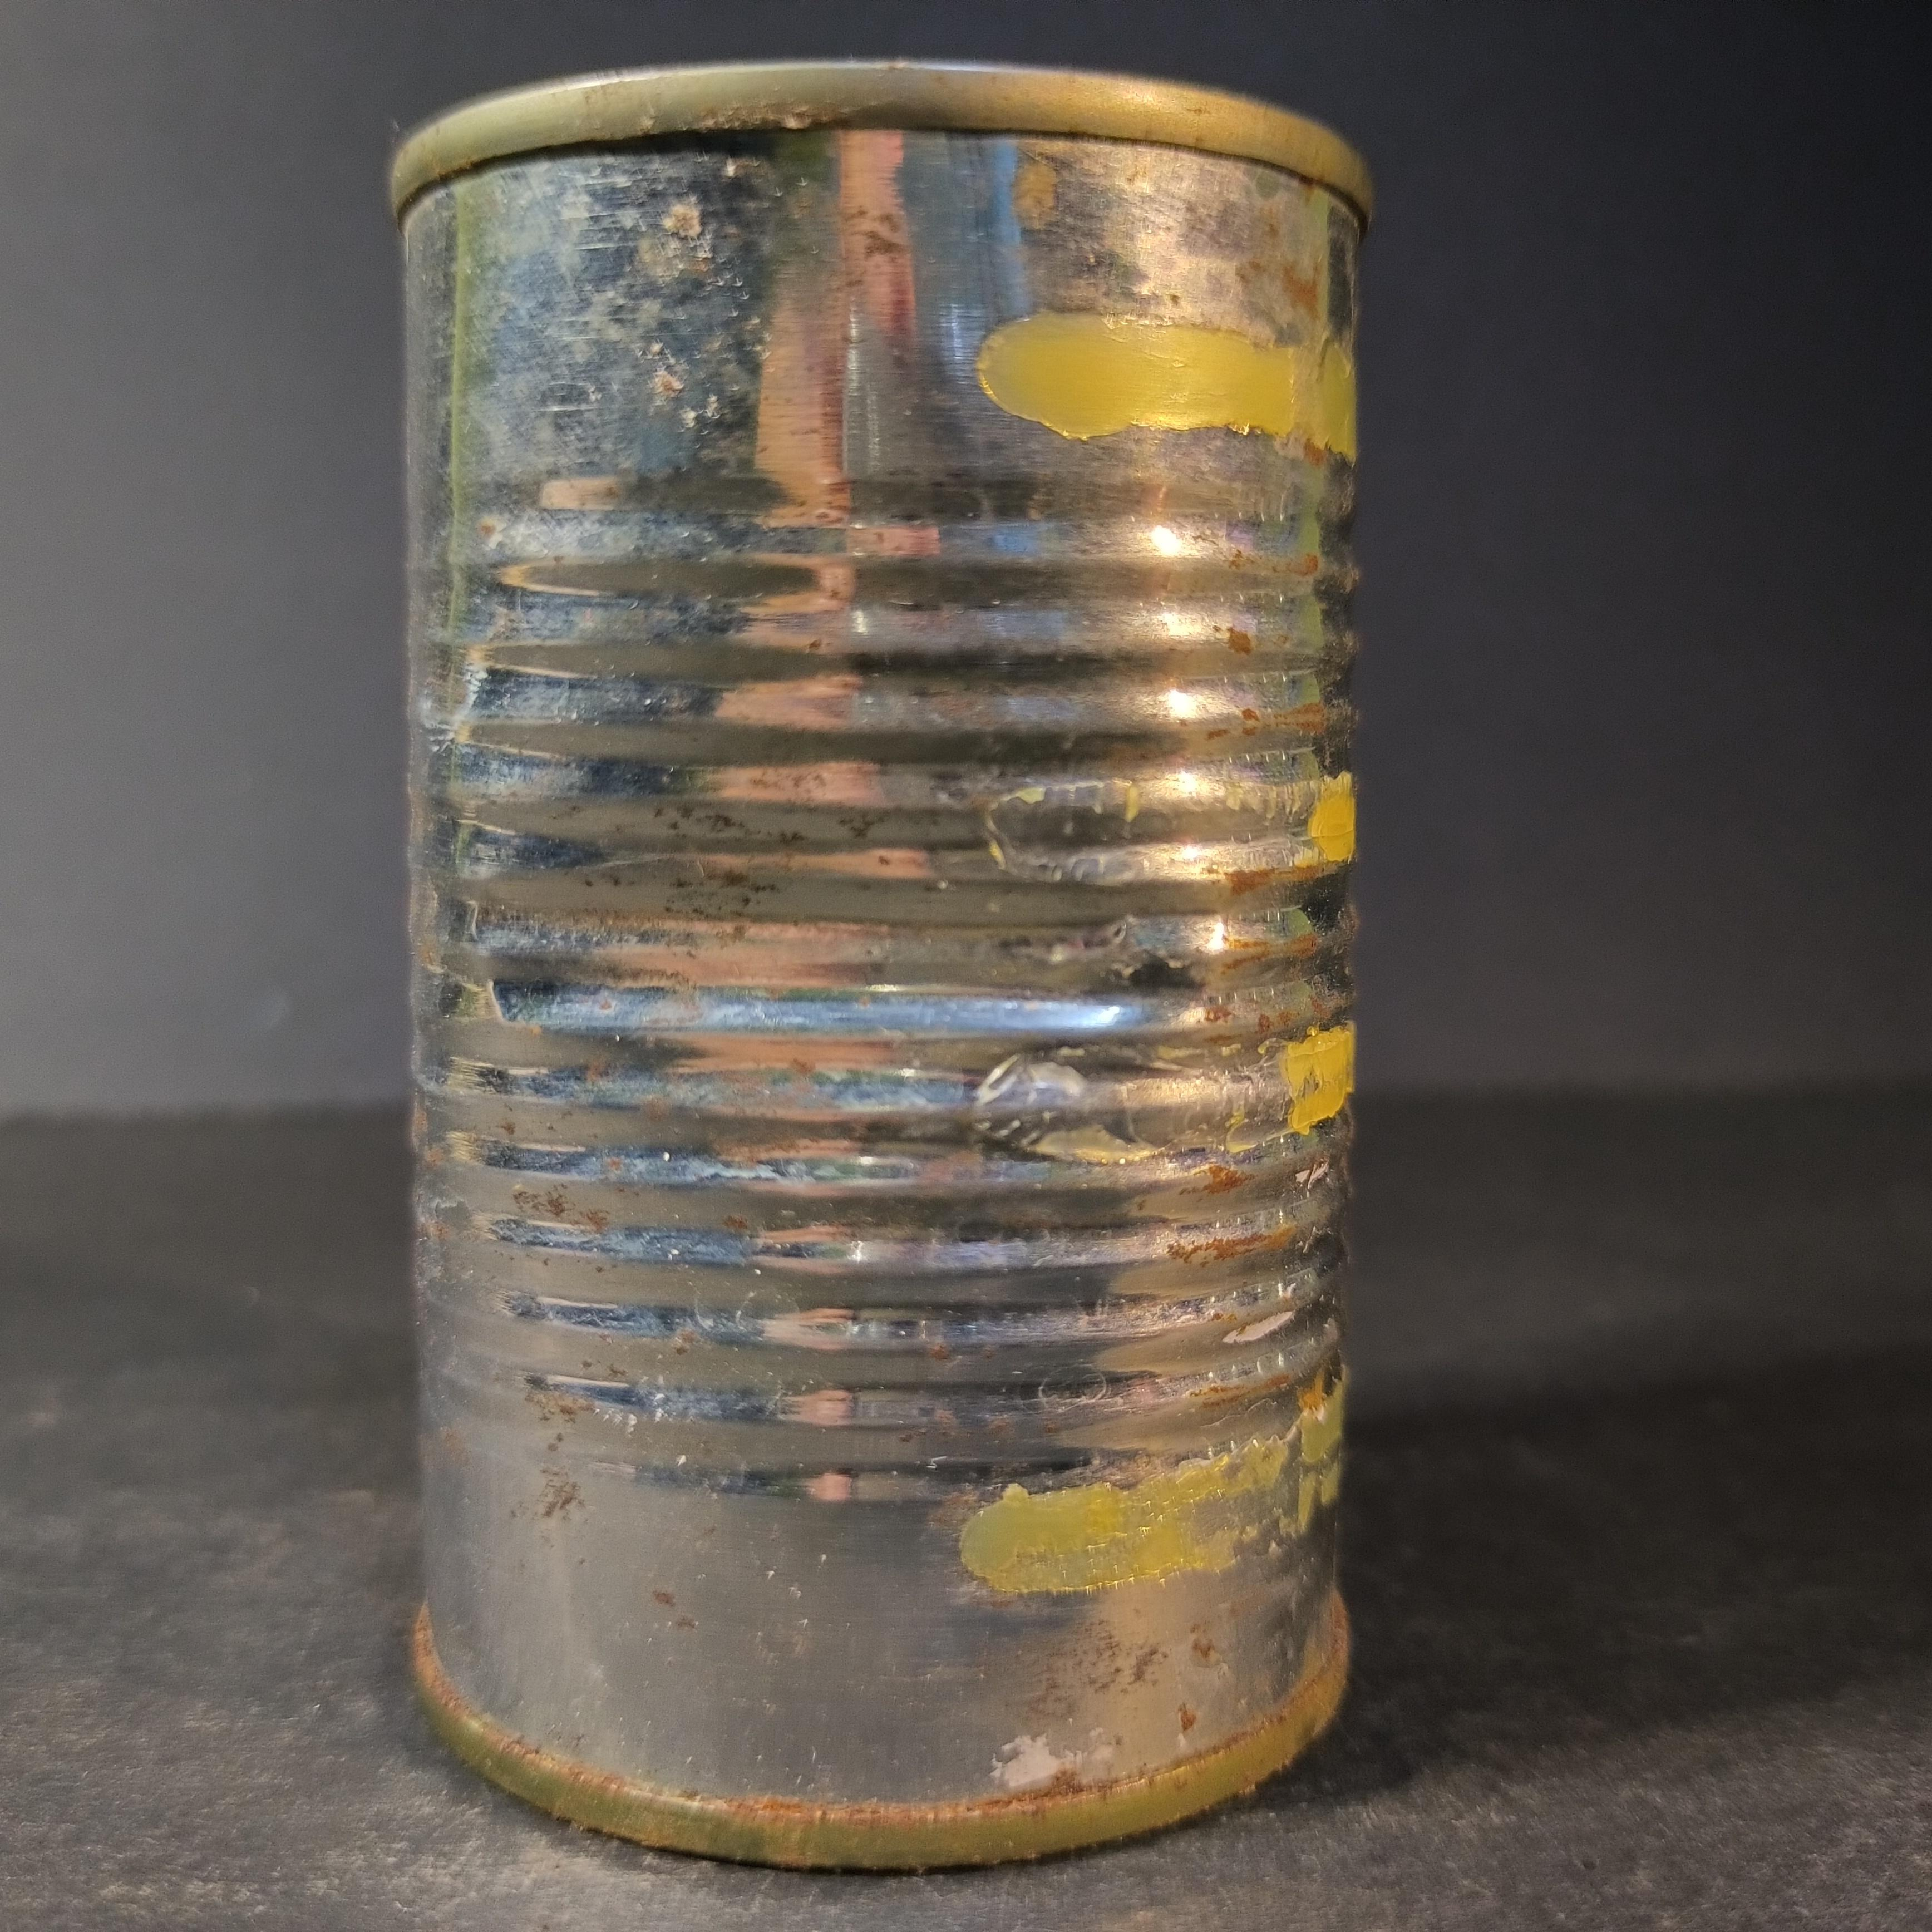Dented: (349, 35, 1384, 1872)
